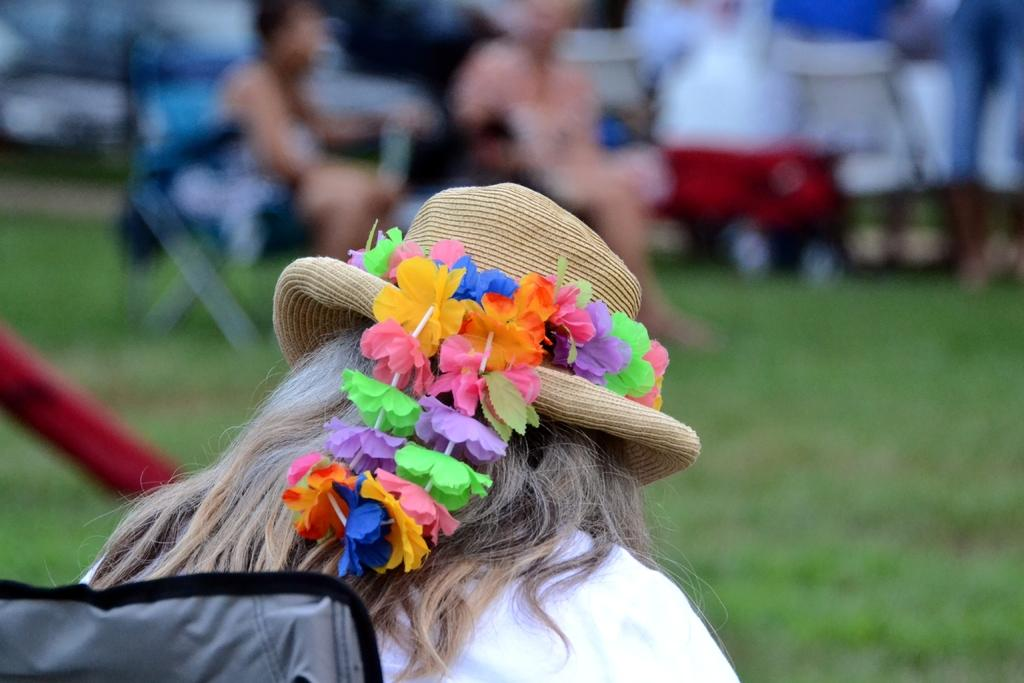Hat: (272, 180, 700, 493)
